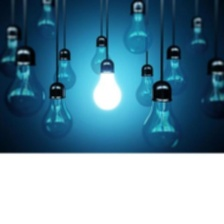light_bulb: (0, 58, 48, 119), (139, 94, 183, 153), (38, 93, 75, 141), (120, 9, 155, 57), (90, 68, 124, 113), (196, 68, 224, 122), (0, 30, 28, 80), (158, 55, 189, 95), (50, 51, 79, 93), (33, 2, 60, 40), (132, 73, 160, 108), (88, 42, 114, 76), (186, 22, 210, 55)
